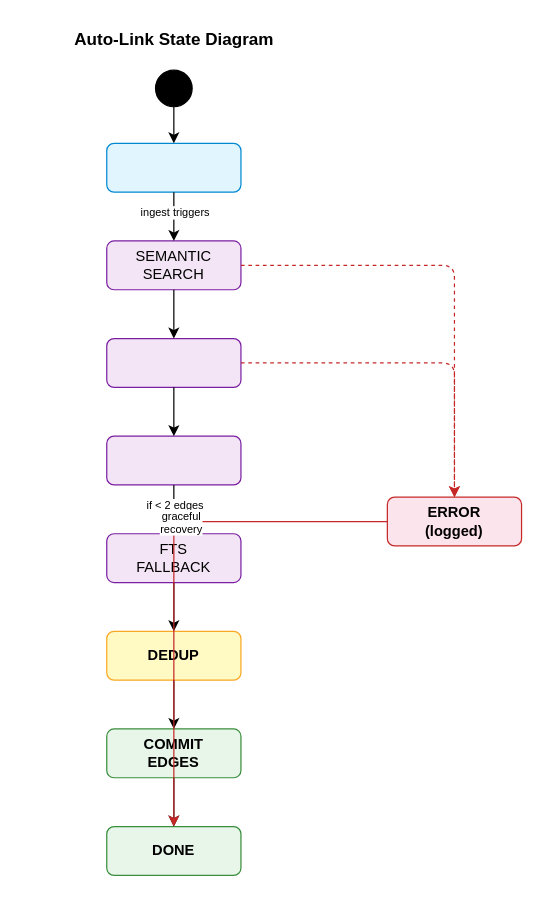
This 543x897 diagram has some shape labels left out. The centre of each missing label's shape, as x and y in pixels:
ENTITY SEARCH: the point at 173,362
IDLE: the point at 173,167
TAG SEARCH: the point at 173,460
